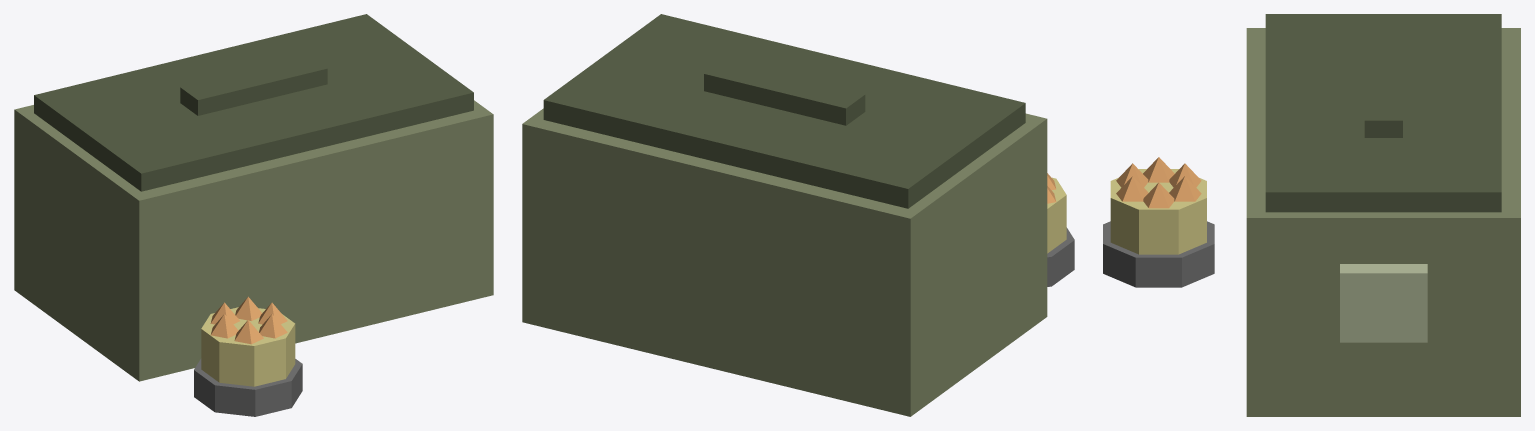
Rendered from ce_ammo_revolver_hp_c.obj.
The picture shows the model from 3 angles, left to right: view 1: azimuth 30°, elevation 25°; view 2: azimuth 150°, elevation 25°; view 3: azimuth 270°, elevation 25°; orthographic projection. The views are drawn at different scales.
Visible parts, largest first — view 1: ce_ammo_revolver_hp_c_0, ce_ammo_revolver_hp_c_1, ce_ammo_revolver_hp_c_5, ce_ammo_revolver_hp_c_2, ce_ammo_revolver_hp_c_4; view 2: ce_ammo_revolver_hp_c_0, ce_ammo_revolver_hp_c_1, ce_ammo_revolver_hp_c_2, ce_ammo_revolver_hp_c_5, ce_ammo_revolver_hp_c_4; view 3: ce_ammo_revolver_hp_c_0, ce_ammo_revolver_hp_c_1, ce_ammo_revolver_hp_c_3, ce_ammo_revolver_hp_c_5, ce_ammo_revolver_hp_c_4, ce_ammo_revolver_hp_c_2, ce_ammo_revolver_hp_c_6, ce_ammo_revolver_hp_c_11, ce_ammo_revolver_hp_c_7, ce_ammo_revolver_hp_c_9.
Part boxes in pixels (x1,y1,x2,y2): ce_ammo_revolver_hp_c_0: [14, 100, 493, 381]; ce_ammo_revolver_hp_c_1: [34, 14, 473, 191]; ce_ammo_revolver_hp_c_5: [201, 307, 295, 386]; ce_ammo_revolver_hp_c_2: [180, 56, 327, 115]; ce_ammo_revolver_hp_c_4: [194, 358, 302, 416]; ce_ammo_revolver_hp_c_0: [522, 108, 1047, 416]; ce_ammo_revolver_hp_c_1: [543, 14, 1025, 208]; ce_ammo_revolver_hp_c_2: [704, 60, 865, 125]; ce_ammo_revolver_hp_c_5: [1047, 177, 1066, 253]; ce_ammo_revolver_hp_c_4: [1047, 227, 1074, 286]; ce_ammo_revolver_hp_c_0: [1246, 28, 1520, 416]; ce_ammo_revolver_hp_c_1: [1265, 14, 1501, 212]; ce_ammo_revolver_hp_c_3: [1340, 264, 1427, 342]; ce_ammo_revolver_hp_c_5: [1110, 169, 1206, 254]; ce_ammo_revolver_hp_c_4: [1103, 221, 1214, 287]; ce_ammo_revolver_hp_c_2: [1364, 51, 1402, 137]; ce_ammo_revolver_hp_c_6: [1143, 182, 1174, 208]; ce_ammo_revolver_hp_c_11: [1116, 176, 1148, 201]; ce_ammo_revolver_hp_c_7: [1169, 176, 1201, 201]; ce_ammo_revolver_hp_c_9: [1143, 157, 1174, 182].
Bounding box in the file's own units: 0.86 × 0.475 × 0.7616.
